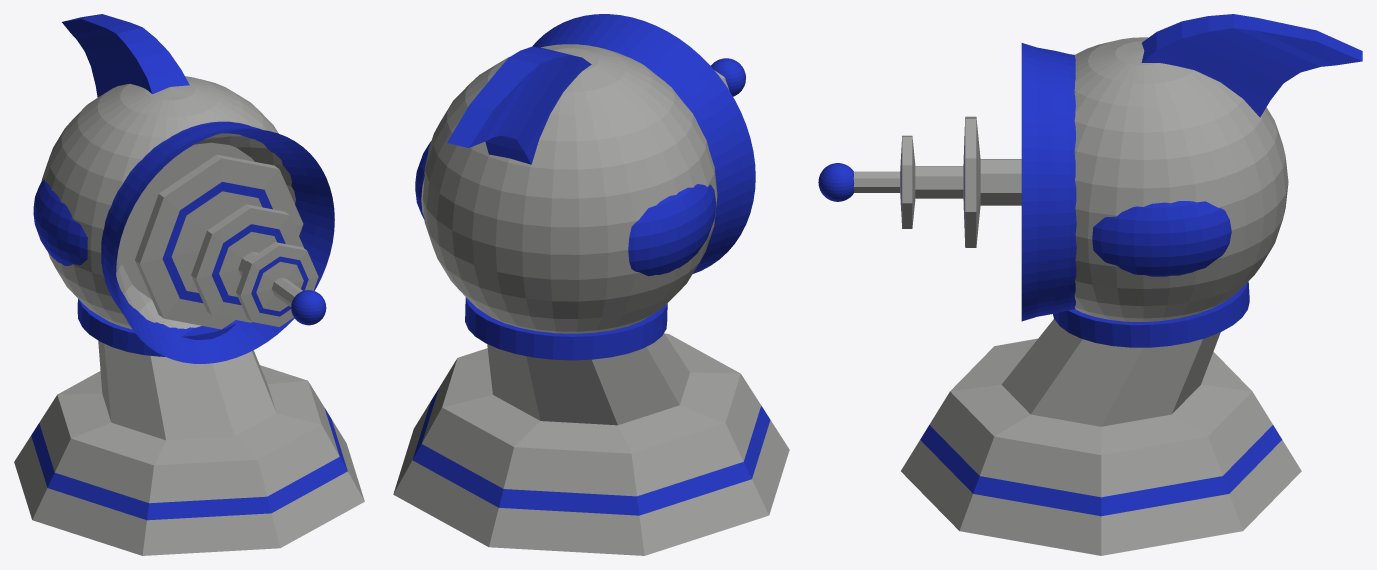
File: Laser_Tower_Upgraded_Water.fbx
3 renders of one model, left to right at view 1: azimuth 30°, elevation 25°; view 2: azimuth 150°, elevation 25°; view 3: azimuth 270°, elevation 25°, orthographic. The views are drawn at different scales.
Visible parts, largest first — view 1: Sphere; view 2: Sphere; view 3: Sphere.
Boxes of the visible parts, x1=… form: Sphere: x1=14, y1=14, x2=364, y2=555; Sphere: x1=393, y1=14, x2=789, y2=555; Sphere: x1=818, y1=14, x2=1362, y2=555.
Size of the model in its own units: 445 by 551 by 603.
Materials: 1 (1 with a texture image).
